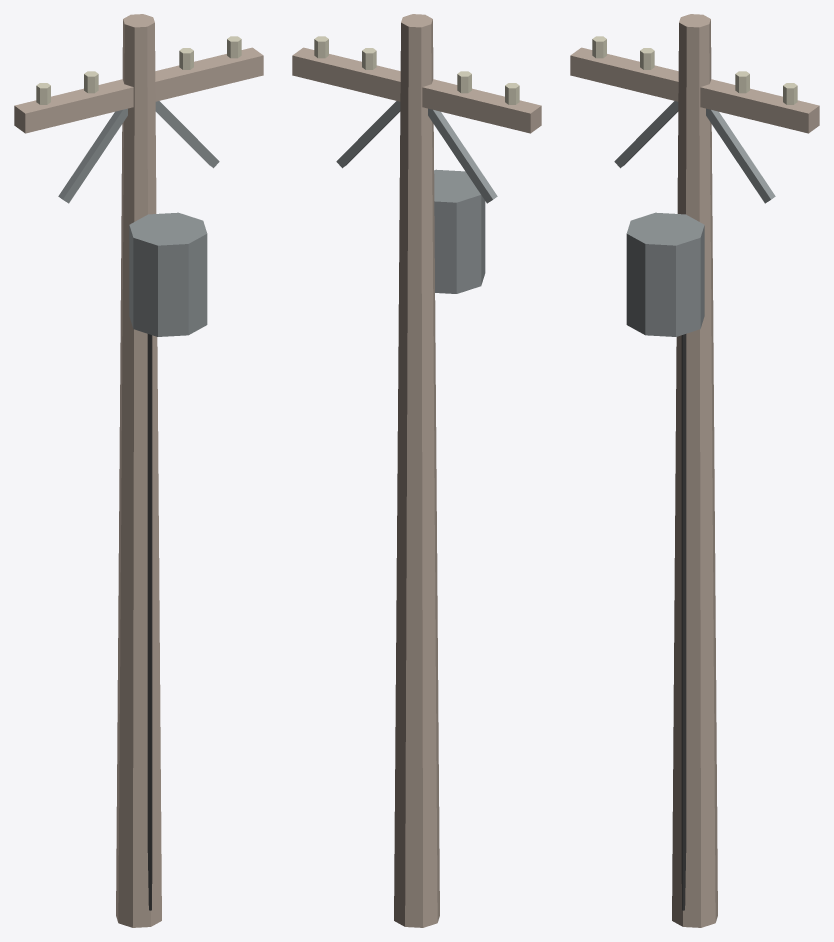
The model's file is isl_power_pole.fbx.
The picture shows the model from 3 angles, left to right: view 1: azimuth 30°, elevation 25°; view 2: azimuth 150°, elevation 25°; view 3: azimuth 330°, elevation 25°; orthographic projection.
Parts seen in each view (by area): view 1: isl_power_pole; view 2: isl_power_pole; view 3: isl_power_pole.
Boxes of the visible parts, x1=… form: isl_power_pole: x1=14, y1=14, x2=263, y2=927; isl_power_pole: x1=292, y1=14, x2=541, y2=927; isl_power_pole: x1=570, y1=14, x2=819, y2=927.
Size of the model in its own units: 1.5 by 5.4 by 0.67.
